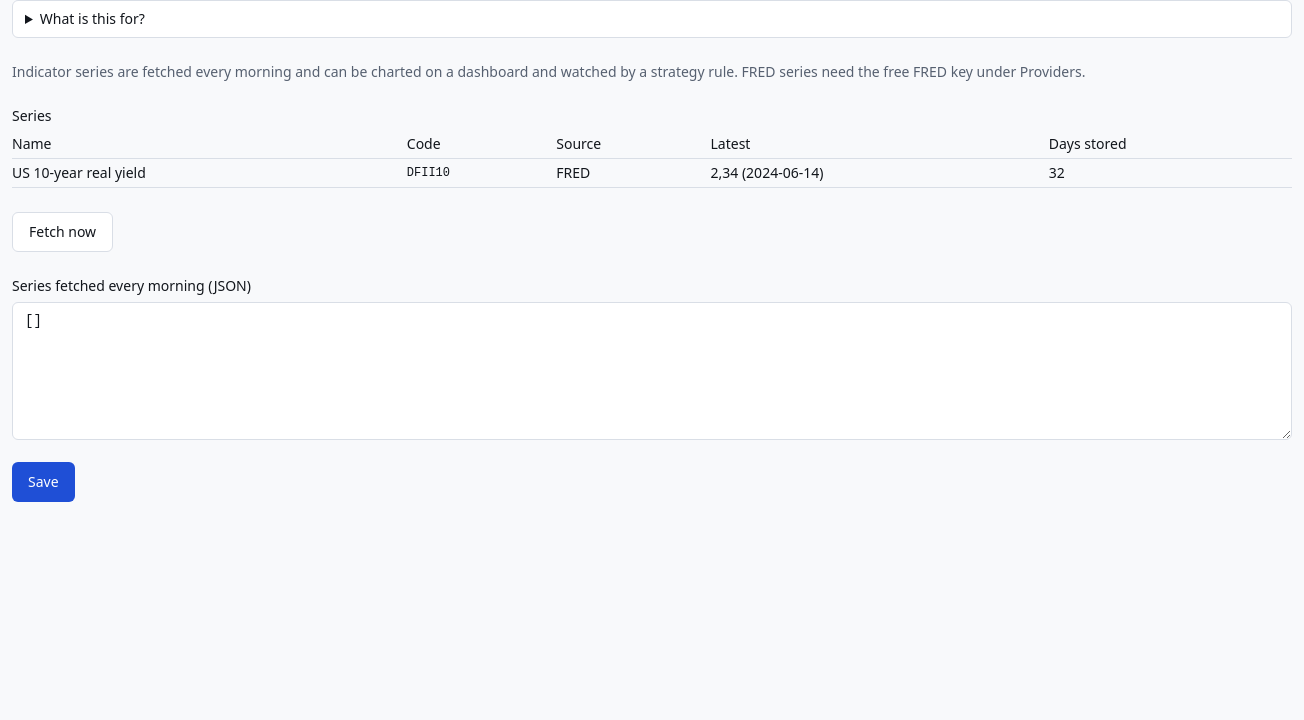
Test: macro (FR-MD-08) › lists the stored series and fetches on request
Check: the row "US 10-year real yield DFII10 FRED 2,34 (2024-06-14) 32" is shown, box left=12, top=158, right=1292, bottom=188
Click the button "Fetch now" at (63, 232), box left=12, top=212, right=113, bottom=252
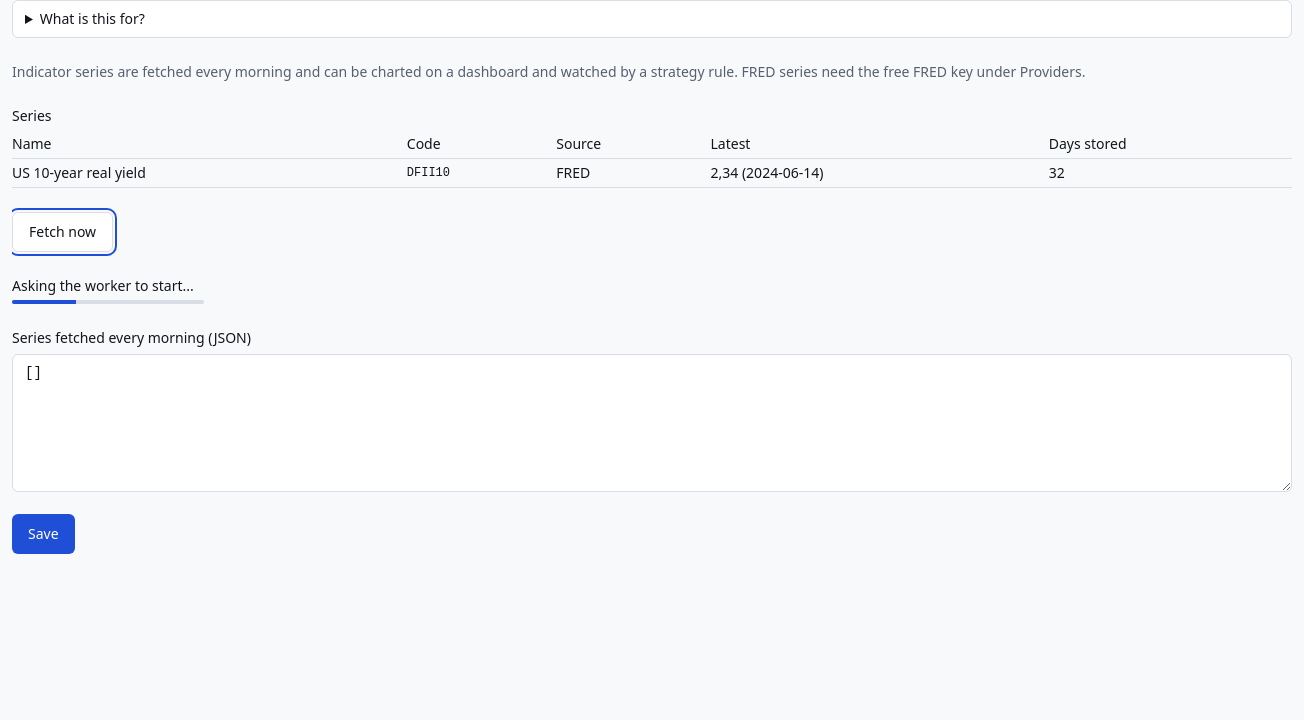
Check: the text "Asking the worker to start..." is shown, box left=12, top=276, right=194, bottom=295
